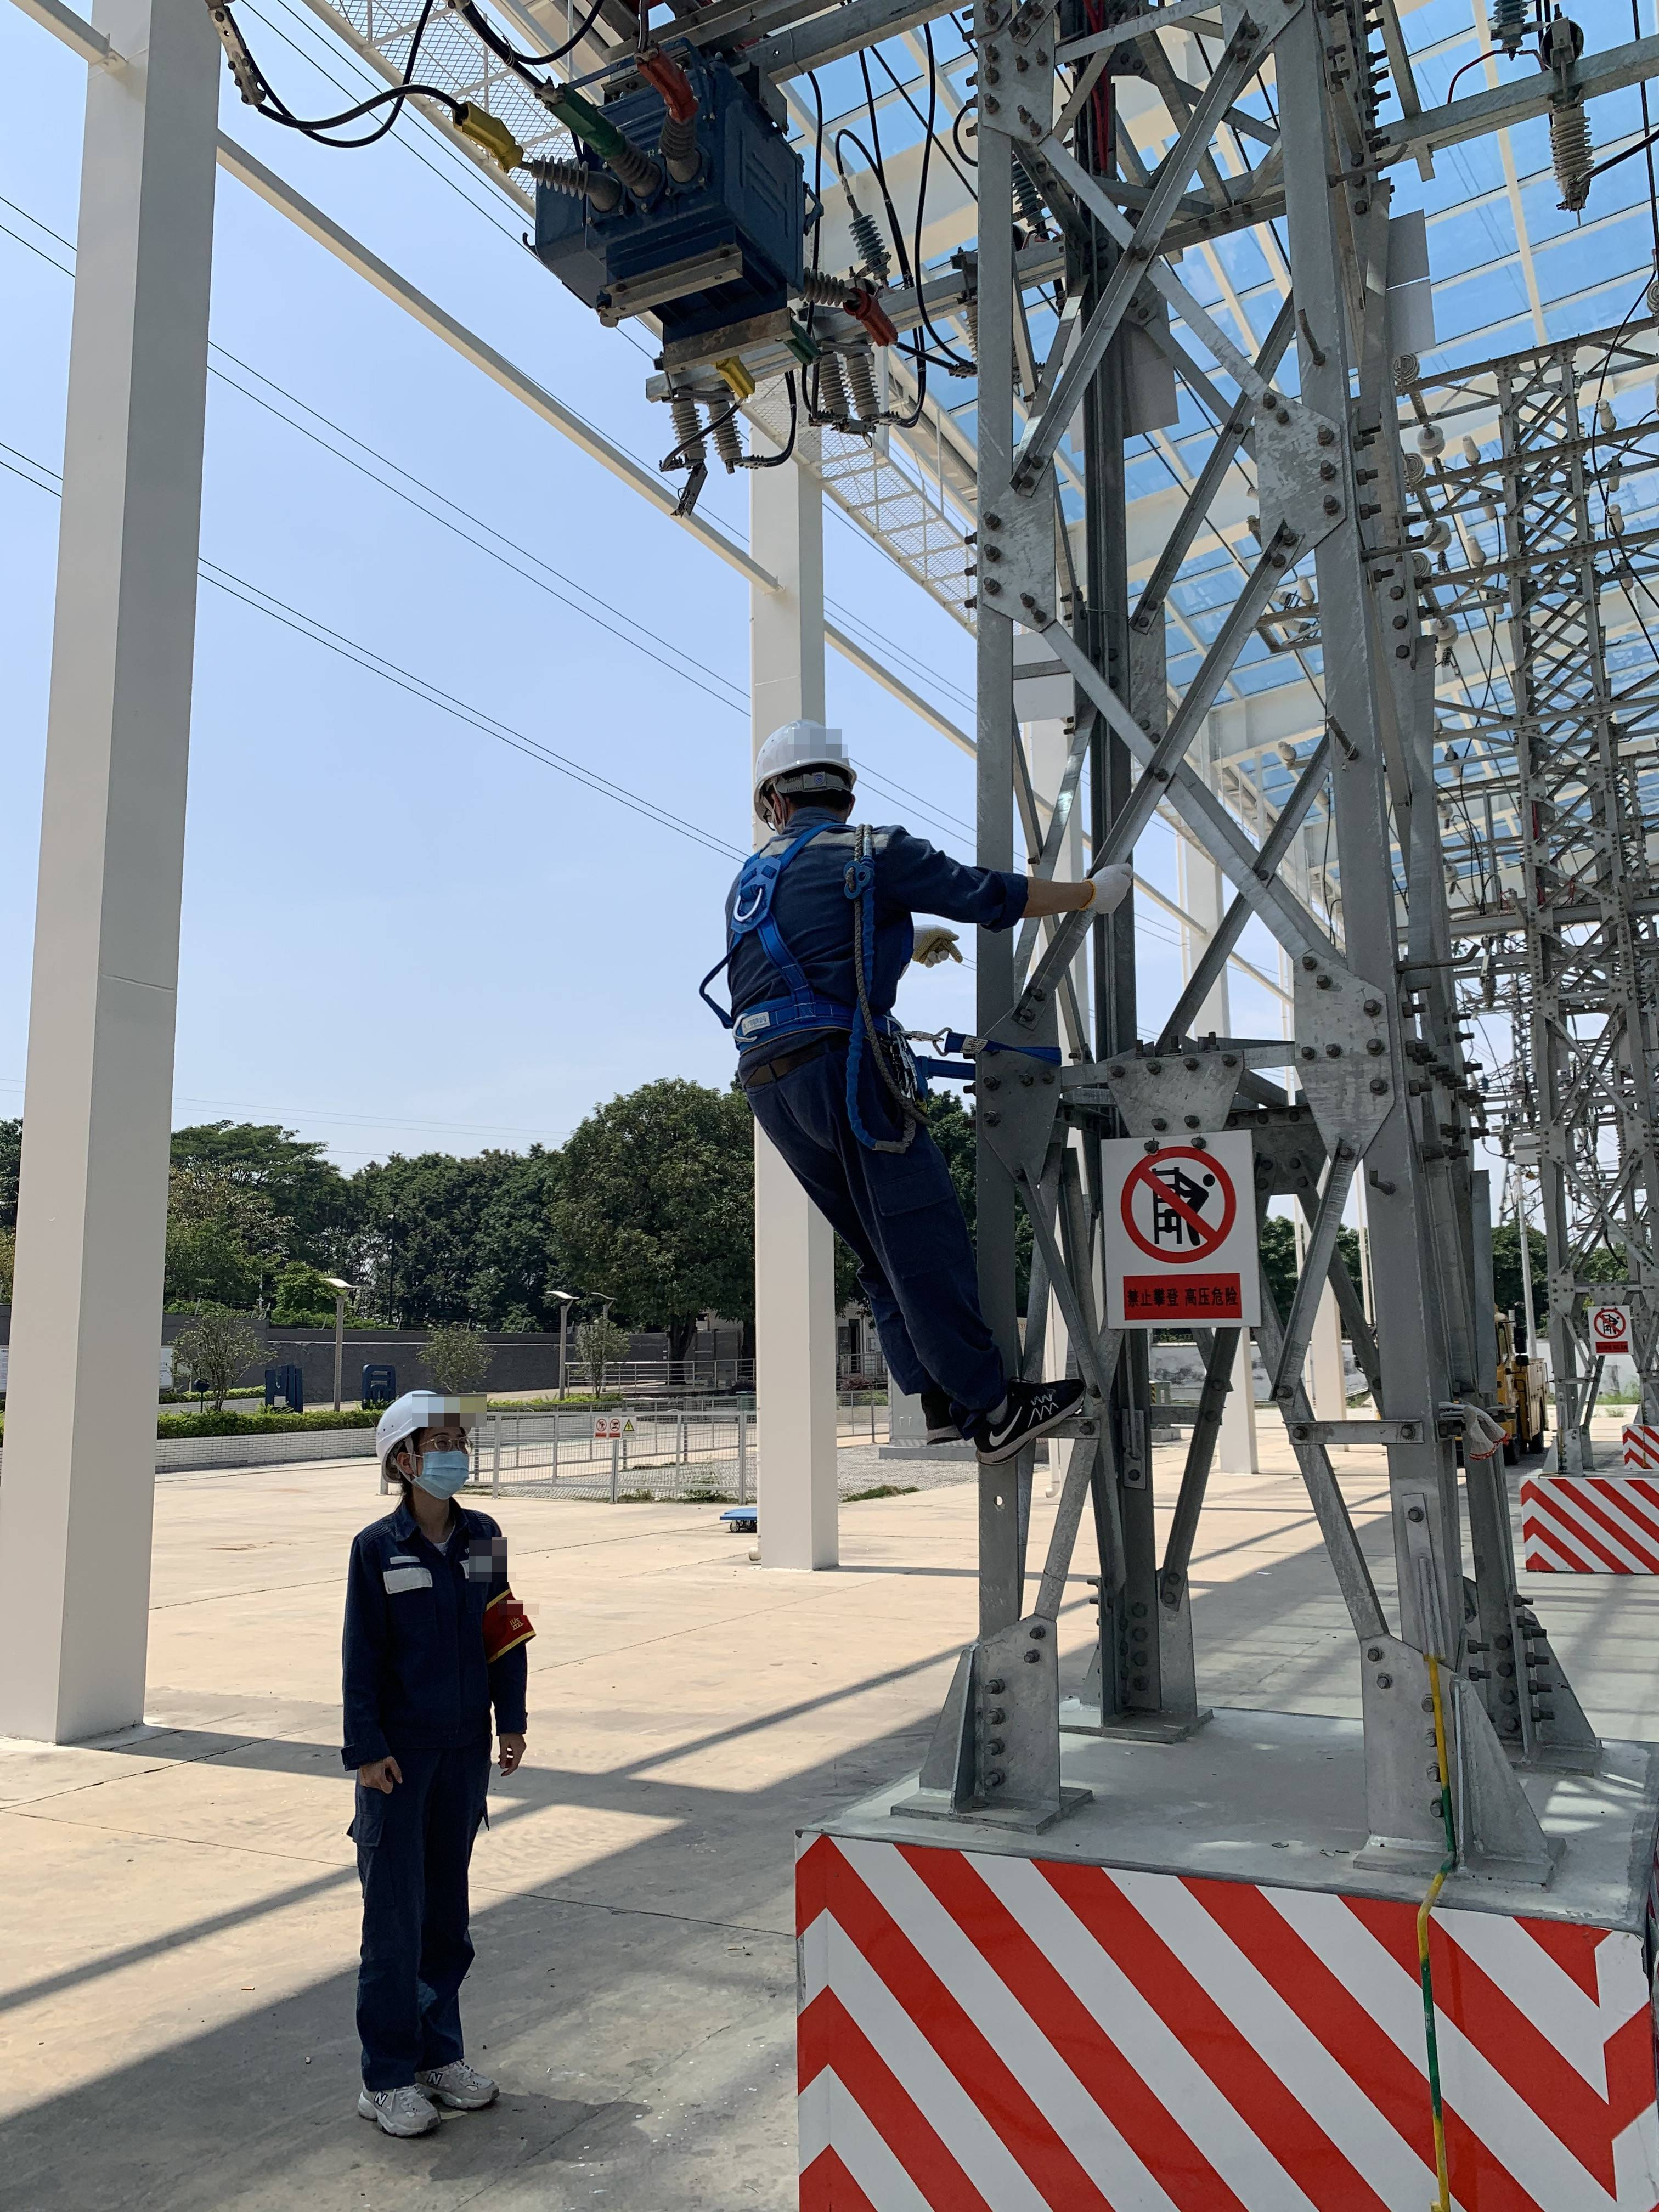downsuit: (758, 1052, 1006, 1418), (359, 1785, 477, 2074)
upsuit: (343, 1515, 511, 1770), (725, 836, 917, 1040)
wrongtop: (953, 862, 1089, 930)
